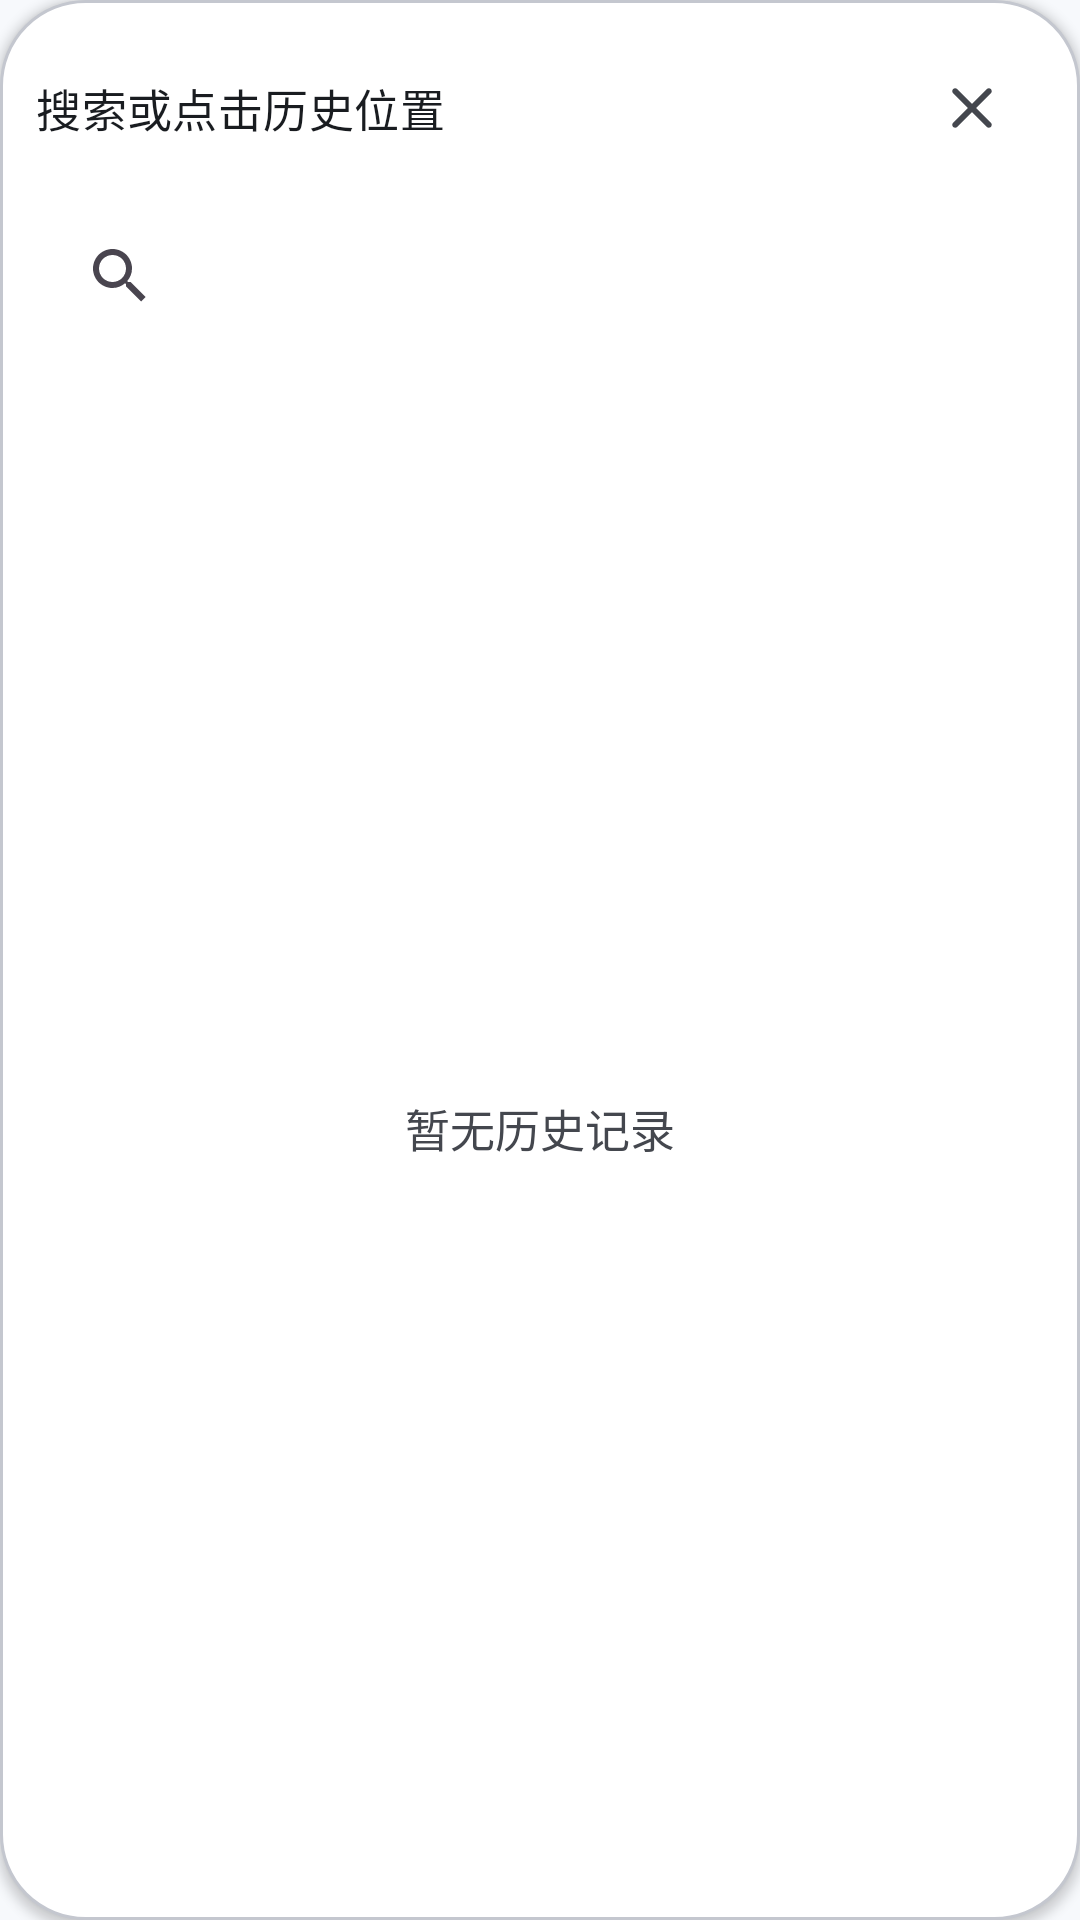

Named icons in this screenshot (1080×1920) and their bounding boxes, rect(x1, y1, x2, y2):
关闭: rect(952, 88, 992, 128)
